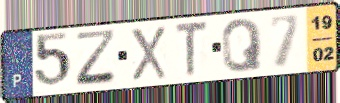5: (33, 30, 74, 93)
7: (268, 12, 301, 71)
Q: (220, 17, 265, 75)
T: (174, 19, 209, 80)
X: (128, 25, 169, 83)
Z: (74, 28, 119, 88)
